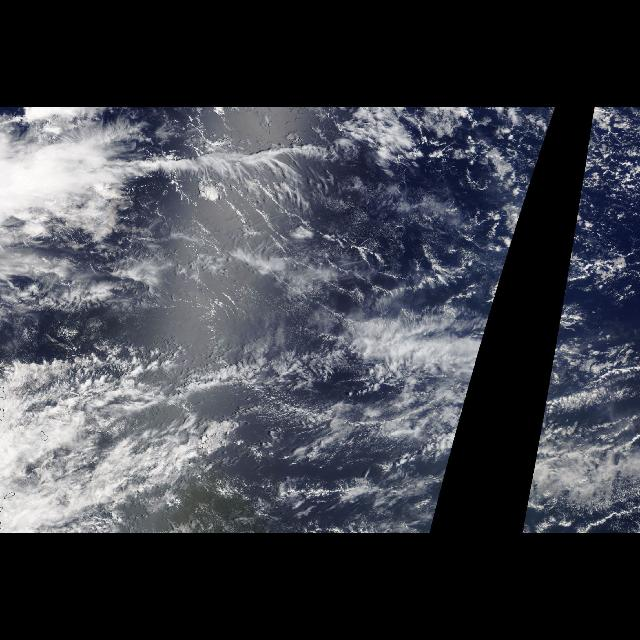Fish: (82, 320, 392, 418)
Gravel: (563, 108, 639, 278), (497, 108, 555, 278)
Sugar: (188, 127, 418, 349)
